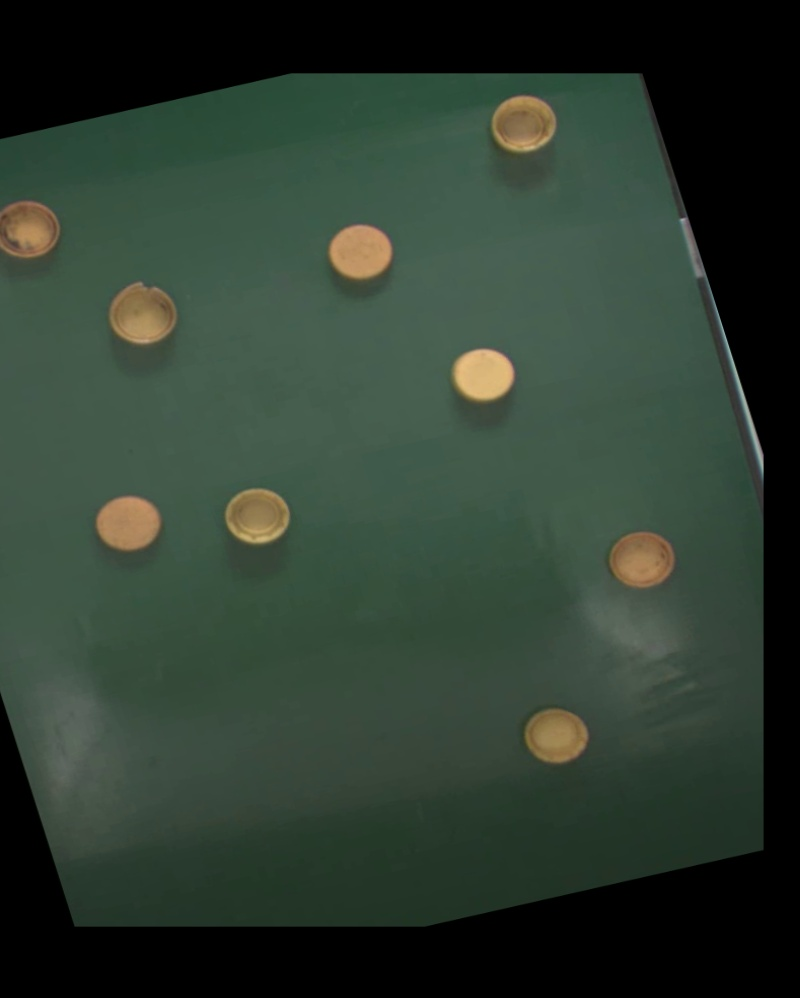Others: (101, 275, 185, 351), (318, 216, 401, 287), (482, 89, 565, 159), (516, 702, 598, 771), (217, 482, 298, 551), (602, 526, 684, 594), (88, 489, 169, 557), (444, 340, 523, 407), (0, 194, 69, 266)
